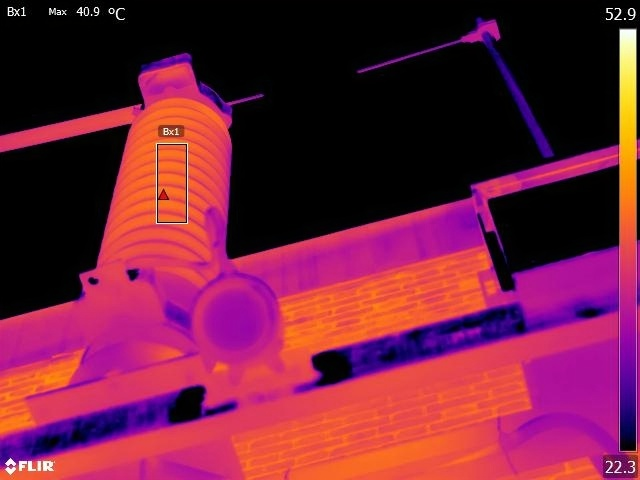post insulator: (87, 105, 242, 279)
